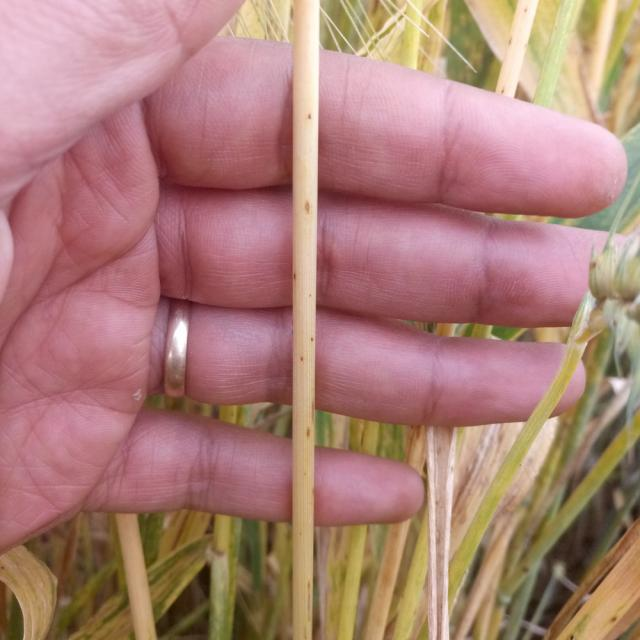wheat-yellowrust: (289, 0, 320, 640)
